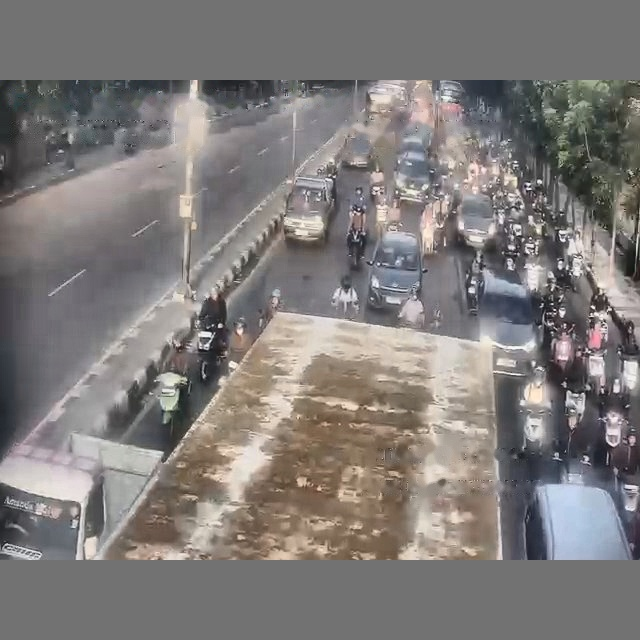Mobil: (523, 484, 631, 559), (477, 268, 540, 376), (367, 231, 426, 310), (283, 175, 335, 241), (458, 194, 496, 248), (394, 153, 429, 203), (339, 134, 373, 168), (368, 83, 394, 115), (403, 122, 432, 148), (397, 135, 426, 159), (439, 80, 464, 100)
Motor: (157, 372, 190, 436), (195, 318, 225, 383), (604, 411, 625, 465), (587, 349, 605, 391), (347, 227, 363, 268), (570, 254, 583, 290)
Truk: (96, 311, 501, 559), (0, 433, 163, 559)
